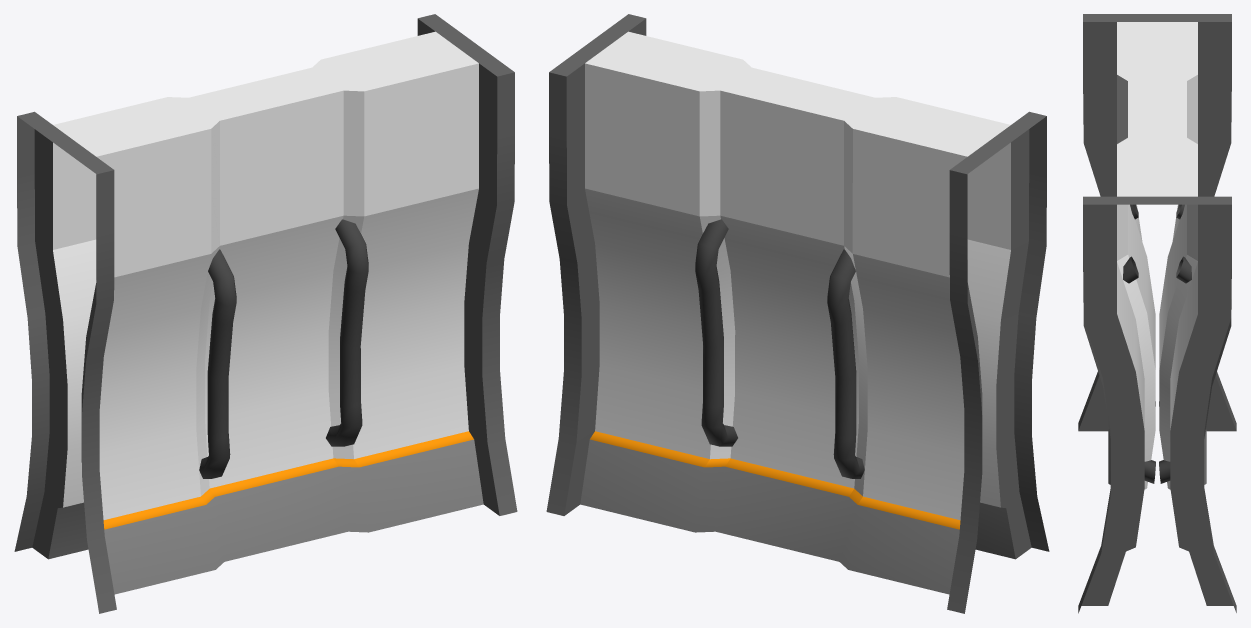
The model's file is SM_ExteriorWall_04_Elevator.fbx.
The picture shows the model from 3 angles, left to right: view 1: azimuth 30°, elevation 25°; view 2: azimuth 150°, elevation 25°; view 3: azimuth 270°, elevation 25°; orthographic projection. The views are drawn at different scales.
Parts seen in each view (by area): view 1: SM_ExteriorWall_04_Elevator; view 2: SM_ExteriorWall_04_Elevator; view 3: SM_ExteriorWall_04_Elevator.
Boxes of the visible parts, x1,y1,x2,y2 form: SM_ExteriorWall_04_Elevator: [14, 14, 517, 613]; SM_ExteriorWall_04_Elevator: [546, 14, 1049, 613]; SM_ExteriorWall_04_Elevator: [1078, 14, 1236, 613].
Bounding box in the file's own units: 200 × 200 × 70.18.
1 material, 1 textured.
